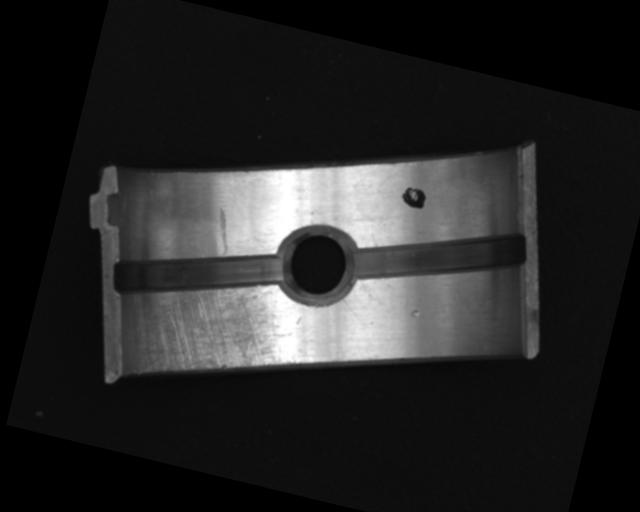blot: (398, 183, 429, 212)
bruise: (409, 306, 421, 320)
gap: (347, 196, 531, 317), (109, 219, 288, 329)
hole: (270, 217, 364, 312)
nick: (208, 206, 238, 259), (335, 297, 368, 327)
scratch: (116, 258, 303, 410)
